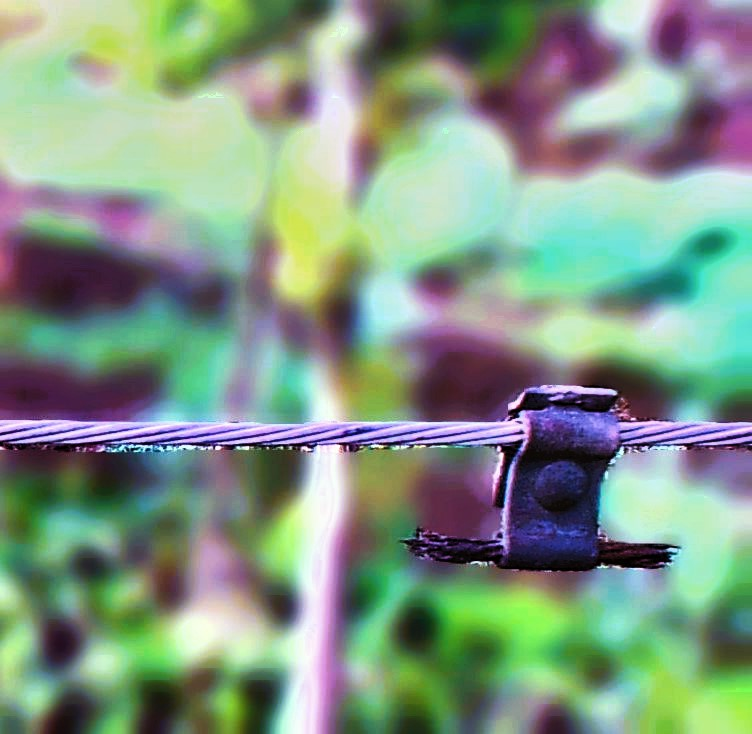Damage of shockproof hammer: (372, 332, 701, 598)
